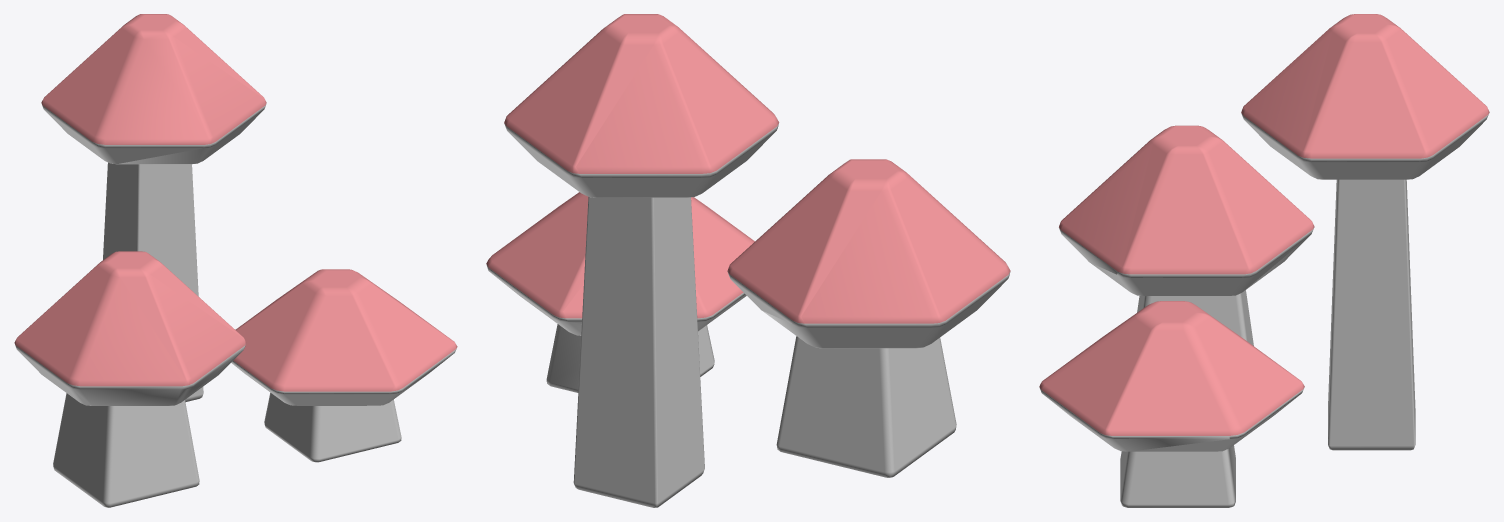
File: mushroom_redGroup.glb
The picture shows the model from 3 angles, left to right: view 1: azimuth 30°, elevation 25°; view 2: azimuth 150°, elevation 25°; view 3: azimuth 270°, elevation 25°; orthographic projection. The views are drawn at different scales.
Visible parts, largest first — view 1: mushroom_redGroup; view 2: mushroom_redGroup; view 3: mushroom_redGroup.
Part boxes in pixels (<box>): mushroom_redGroup: <box>14,14,457,507</box>; mushroom_redGroup: <box>486,14,1010,507</box>; mushroom_redGroup: <box>1039,14,1489,507</box>.
Bounding box in the file's own units: 0.2668 × 0.2505 × 0.2485.
